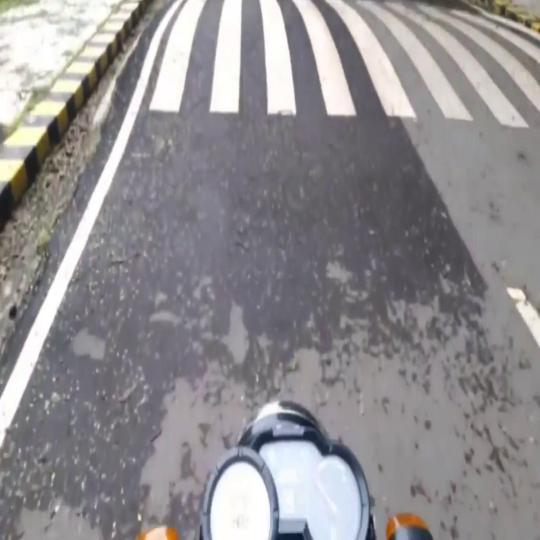Speed Bump: (113, 0, 540, 164)
